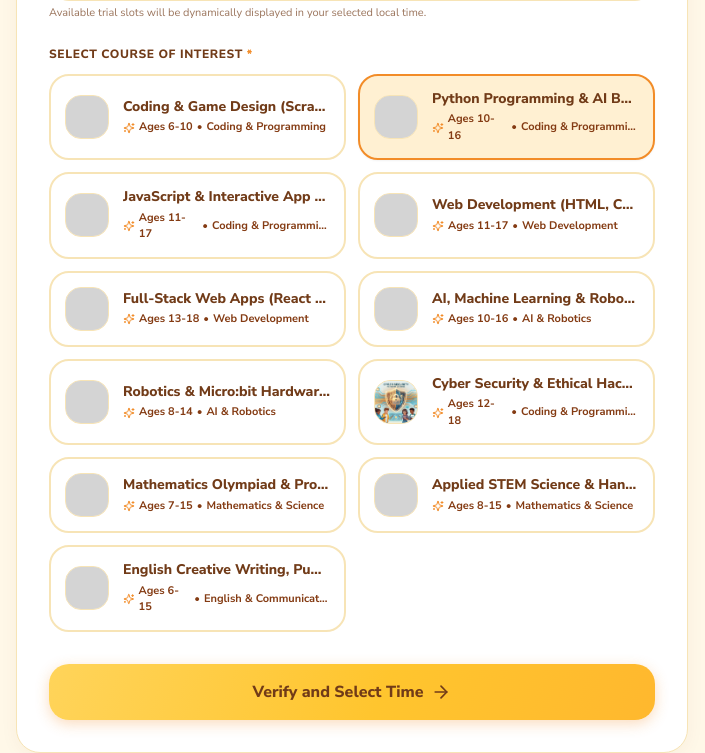
Test: ParentDetailsForm Component Tests › displays trial limit banner when student has already used their trial class
(page scrolled)
Click the button "Verify and Select Time": (352, 692) [49,664,655,720]
(page scrolled)
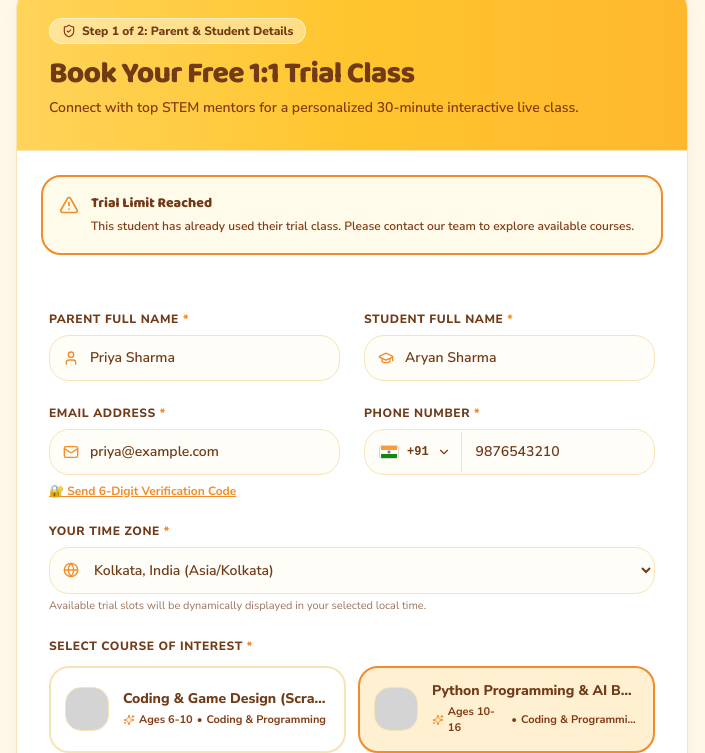
Expected: the text "This student has already used their trial class" is shown, [91,218,634,234]
